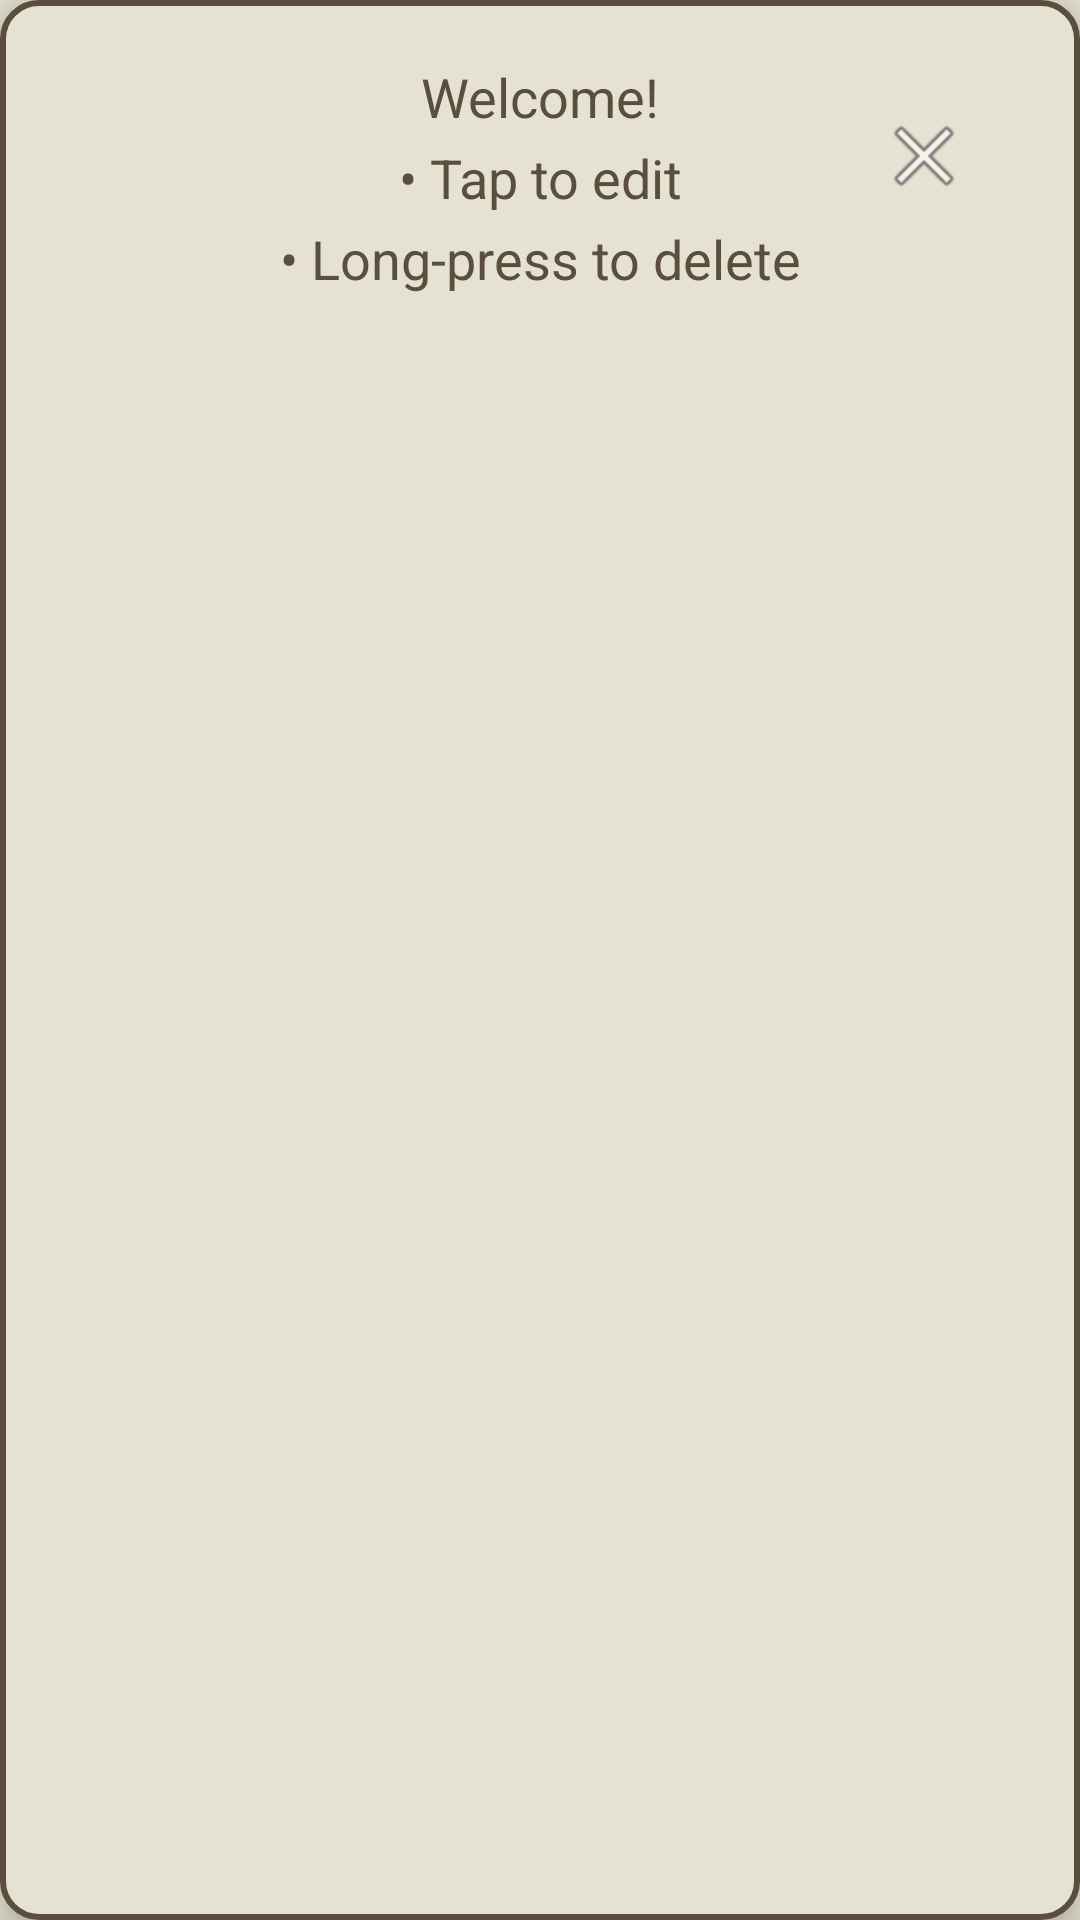

Icons on this 1080px x 1920px Android screen, each with the point to tap as (x=x, y=y):
Close popup: (x=924, y=156)
